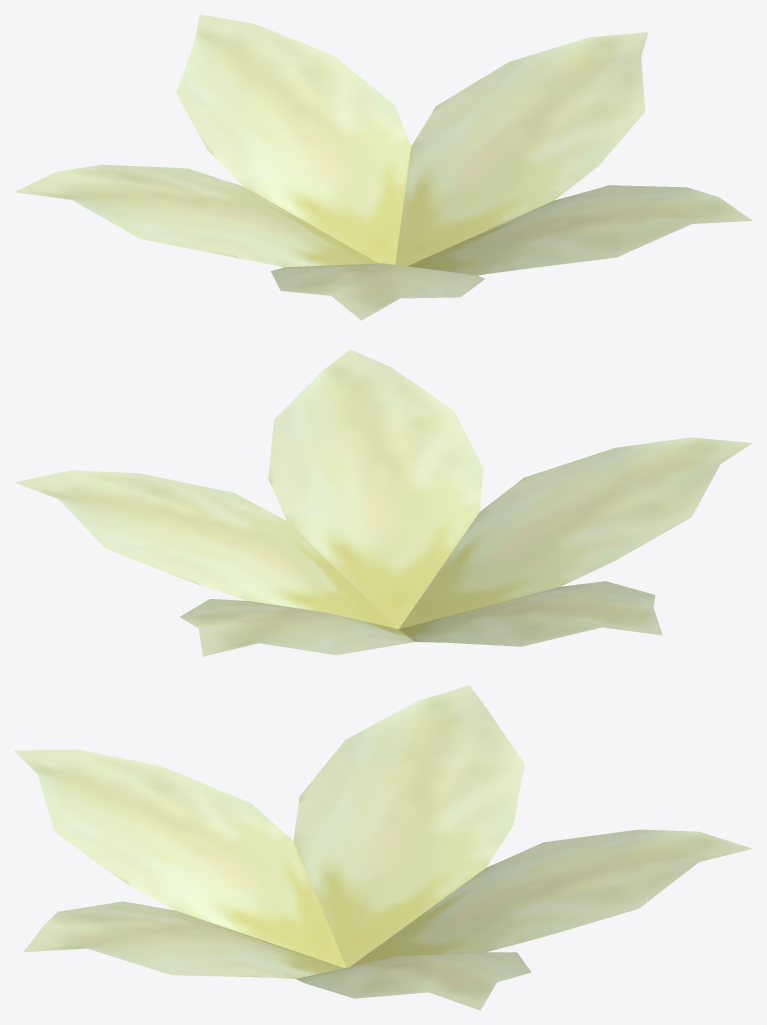
The model's file is sucai_03.FBX.
3 renders of one model, top to bottom at view 1: azimuth 30°, elevation 25°; view 2: azimuth 150°, elevation 25°; view 3: azimuth 270°, elevation 25°, orthographic. The views are drawn at different scales.
Parts seen in each view (by area): view 1: sucai_03; view 2: sucai_03; view 3: sucai_03.
Boxes of the visible parts, x1,y1,x2,y2 form: sucai_03: (14,14,752,320); sucai_03: (14,349,752,656); sucai_03: (14,685,752,1010).
Size of the model in its own units: 28.4 by 4.96 by 27.25.
